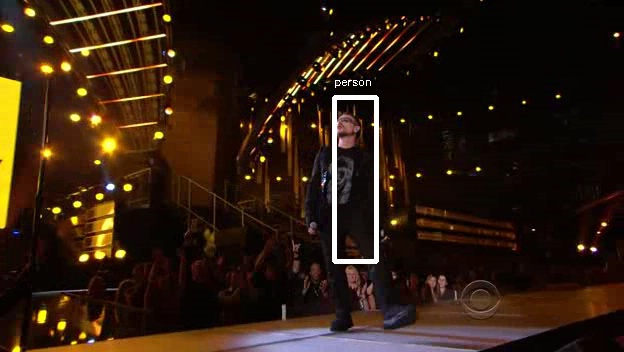person: (307, 116, 378, 235), (304, 116, 375, 235), (310, 116, 381, 235), (307, 113, 378, 232), (307, 119, 378, 238)
target_negative: (275, 30, 446, 237), (234, 86, 298, 308), (305, 37, 355, 302), (159, 300, 561, 318), (255, 300, 418, 309), (593, 252, 620, 290)
